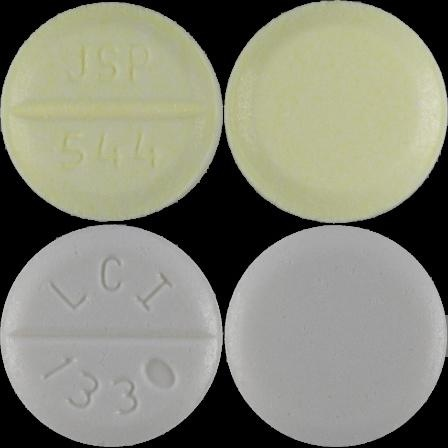0527-1324: (0, 0, 224, 224)
